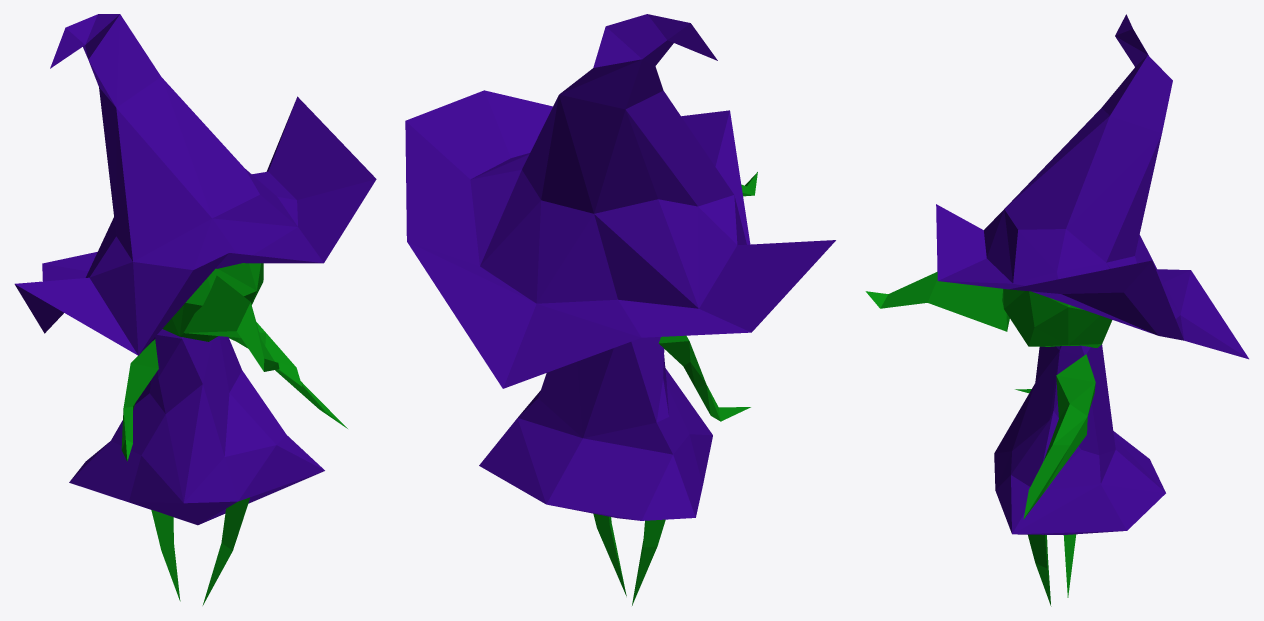
The model's file is Witch.FBX.
3 views of the same model, side by side, from view 1: azimuth 30°, elevation 25°; view 2: azimuth 150°, elevation 25°; view 3: azimuth 270°, elevation 25° (orthographic). The views are drawn at different scales.
Visible parts, largest first — view 1: Object004; view 2: Object004; view 3: Object004.
Part boxes in pixels (x1,y1,x2,y2): Object004: [14, 14, 376, 605]; Object004: [405, 14, 835, 605]; Object004: [865, 14, 1248, 606].
Bounding box in the file's own units: 38.62 × 39.53 × 62.36.
